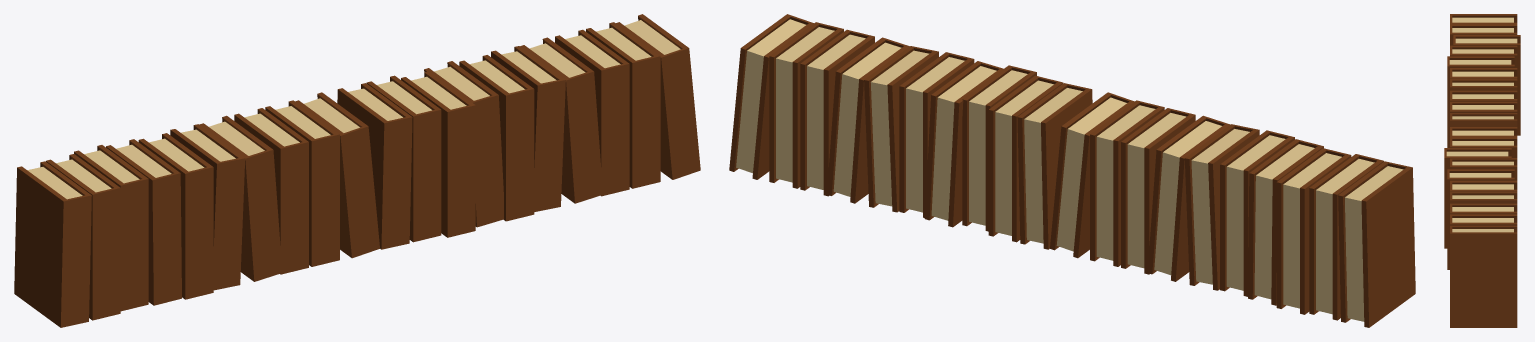
The model's file is book-bookshelf.fbx.
3 views of the same model, side by side, from view 1: azimuth 30°, elevation 25°; view 2: azimuth 150°, elevation 25°; view 3: azimuth 270°, elevation 25° (orthographic). The views are drawn at different scales.
Visible parts, largest first — view 1: Book Fat1.013; view 2: Book Fat1.013; view 3: Book Fat1.013.
Boxes of the visible parts, x1,y1,x2,y2 form: Book Fat1.013: (14,14,700,327); Book Fat1.013: (729,14,1415,327); Book Fat1.013: (1444,14,1520,327).
Size of the model in its own units: 283 by 54.05 by 40.47.
